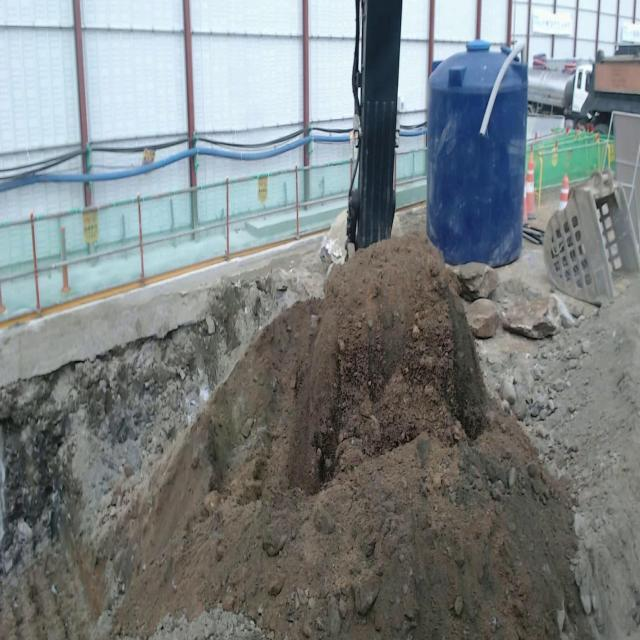red-sand: (0, 235, 577, 640)
stone: (494, 280, 576, 339), (450, 262, 498, 301), (465, 299, 501, 338)
white-sand: (548, 280, 640, 640)
